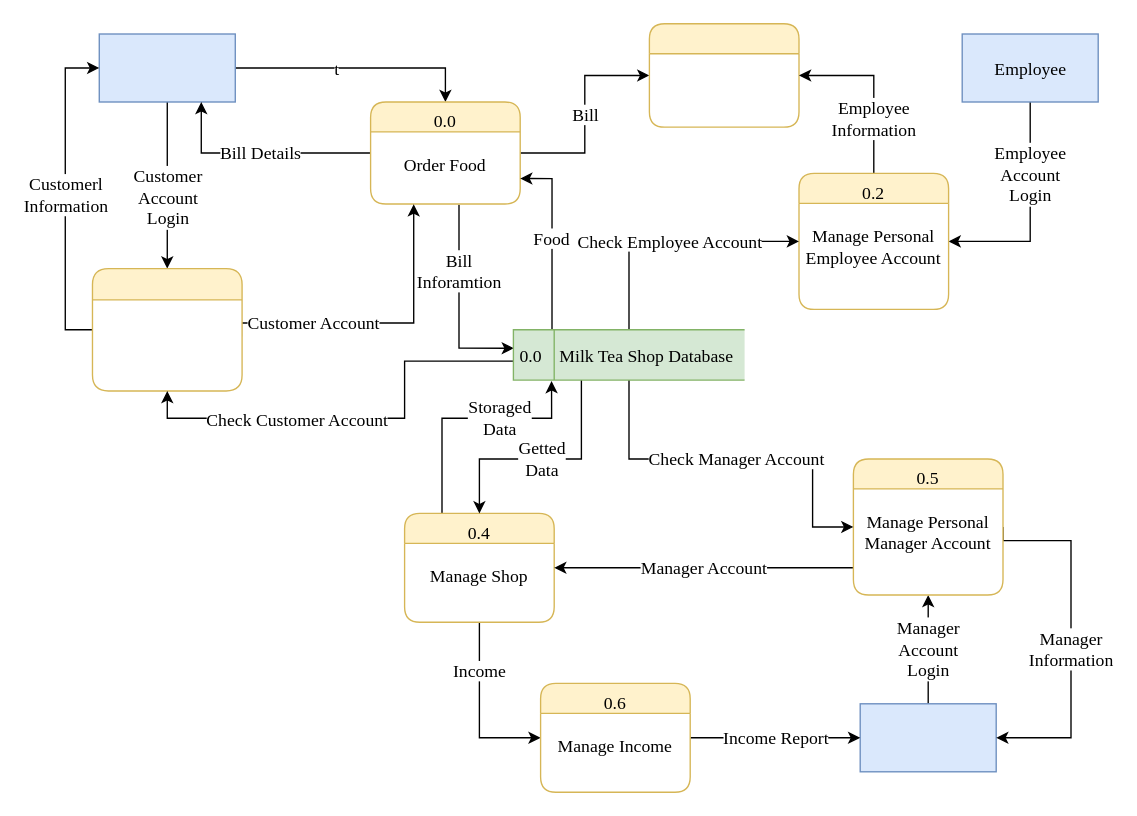
The diagram is 1137 pixels wide and 816 high, and some of its shapes have lost their labels. Each missing label, with the centre of its shape:
0.1 Manage Personal Customer Account: the point at 166,329
0.3 Manage Order: the point at 723,74
Customer: the point at 166,67
Manager: the point at 927,737
